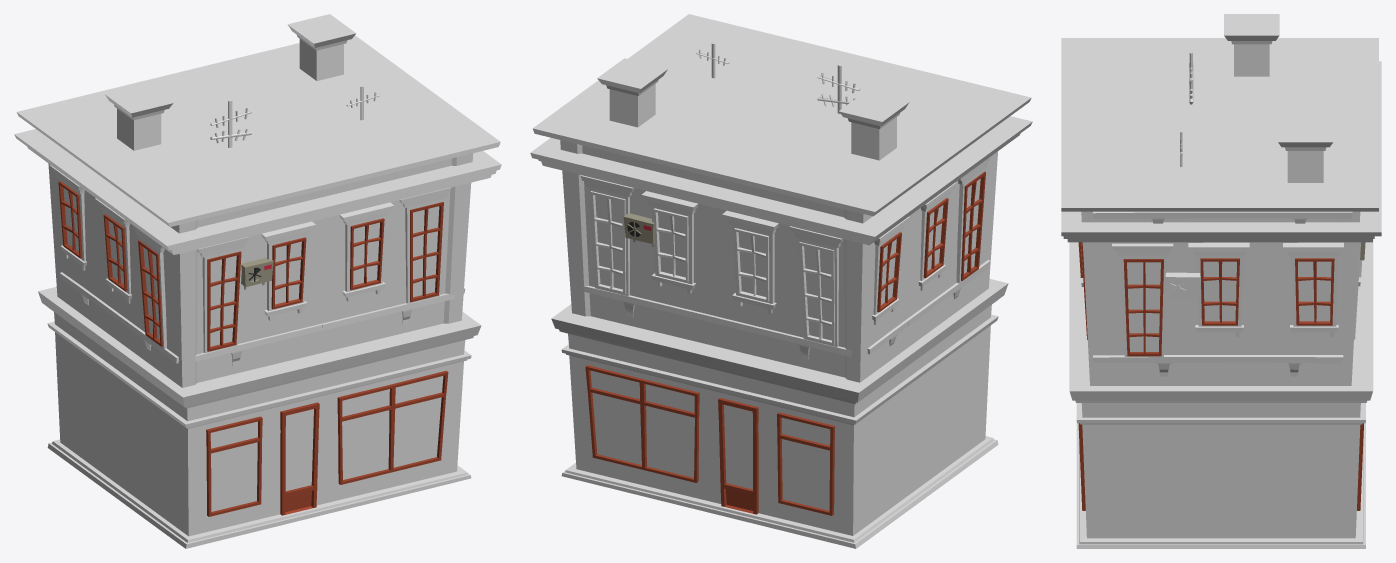
Rendered from Level02House.fbx.
The picture shows the model from 3 angles, left to right: view 1: azimuth 30°, elevation 25°; view 2: azimuth 150°, elevation 25°; view 3: azimuth 270°, elevation 25°; orthographic projection. The views are drawn at different scales.
Visible parts, largest first — view 1: café.001; view 2: café.001; view 3: café.001.
Boxes of the visible parts, left/top/right/bottom form: café.001: left=14, top=14, right=501, bottom=548; café.001: left=530, top=14, right=1032, bottom=548; café.001: left=1061, top=14, right=1381, bottom=548.
Bounding box in the file's own units: 311 × 341 × 246.
